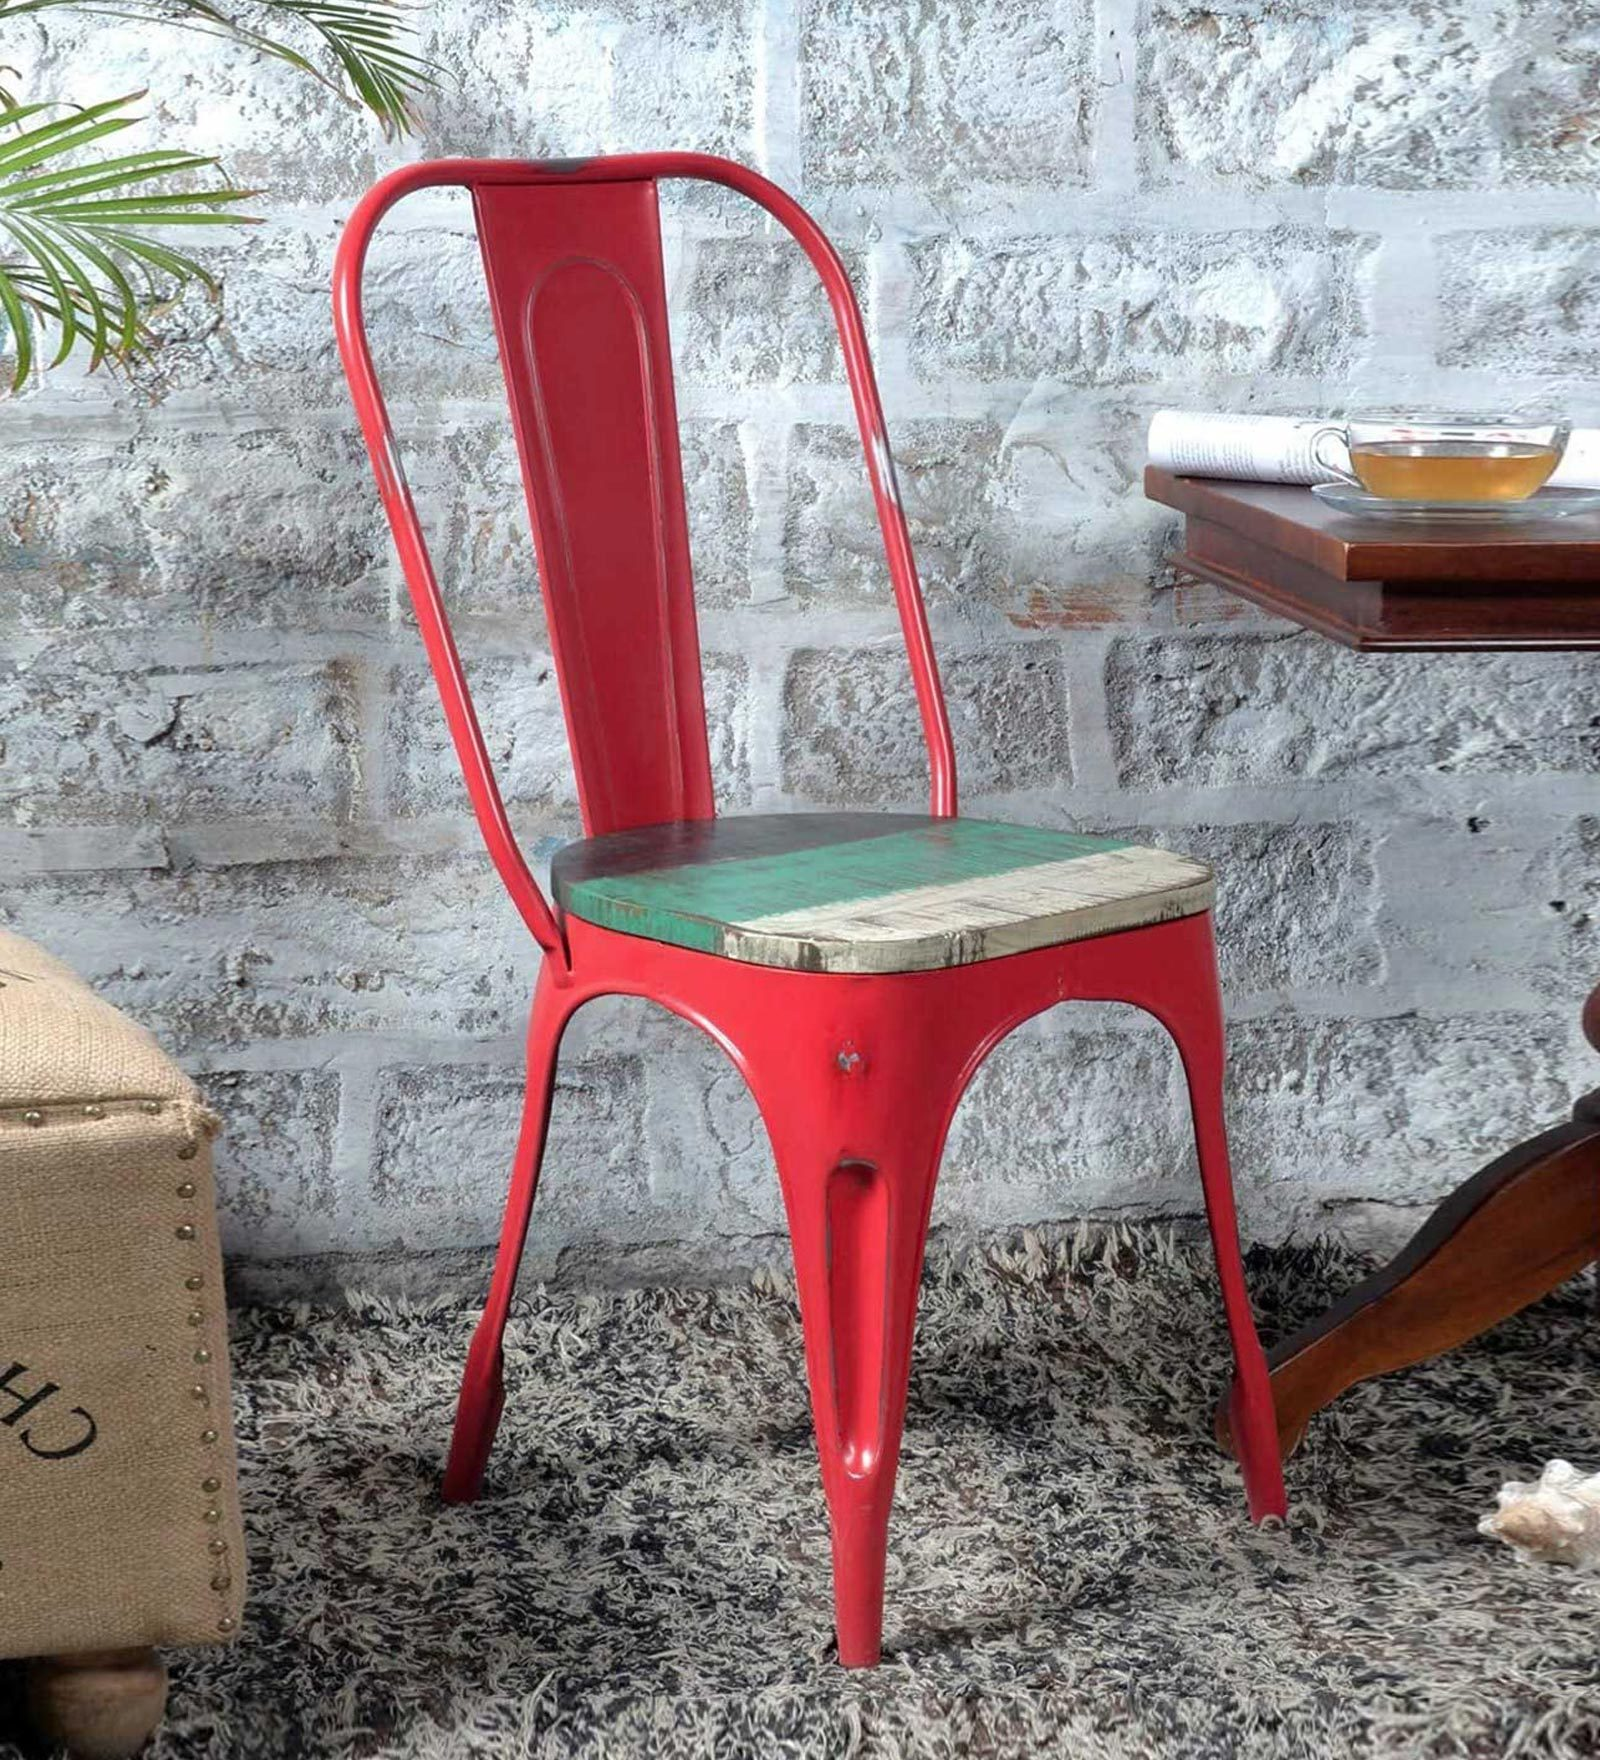Ekati Metal Chair in Blue Color by Bohemiana: (290, 133, 1347, 1682)
